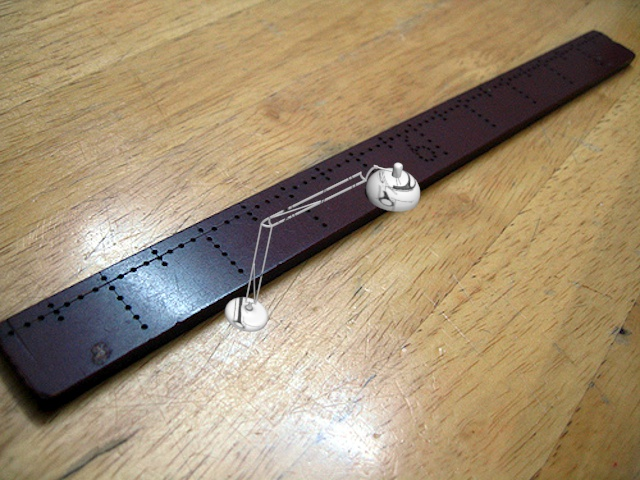desk_lamp: (225, 161, 424, 336)
